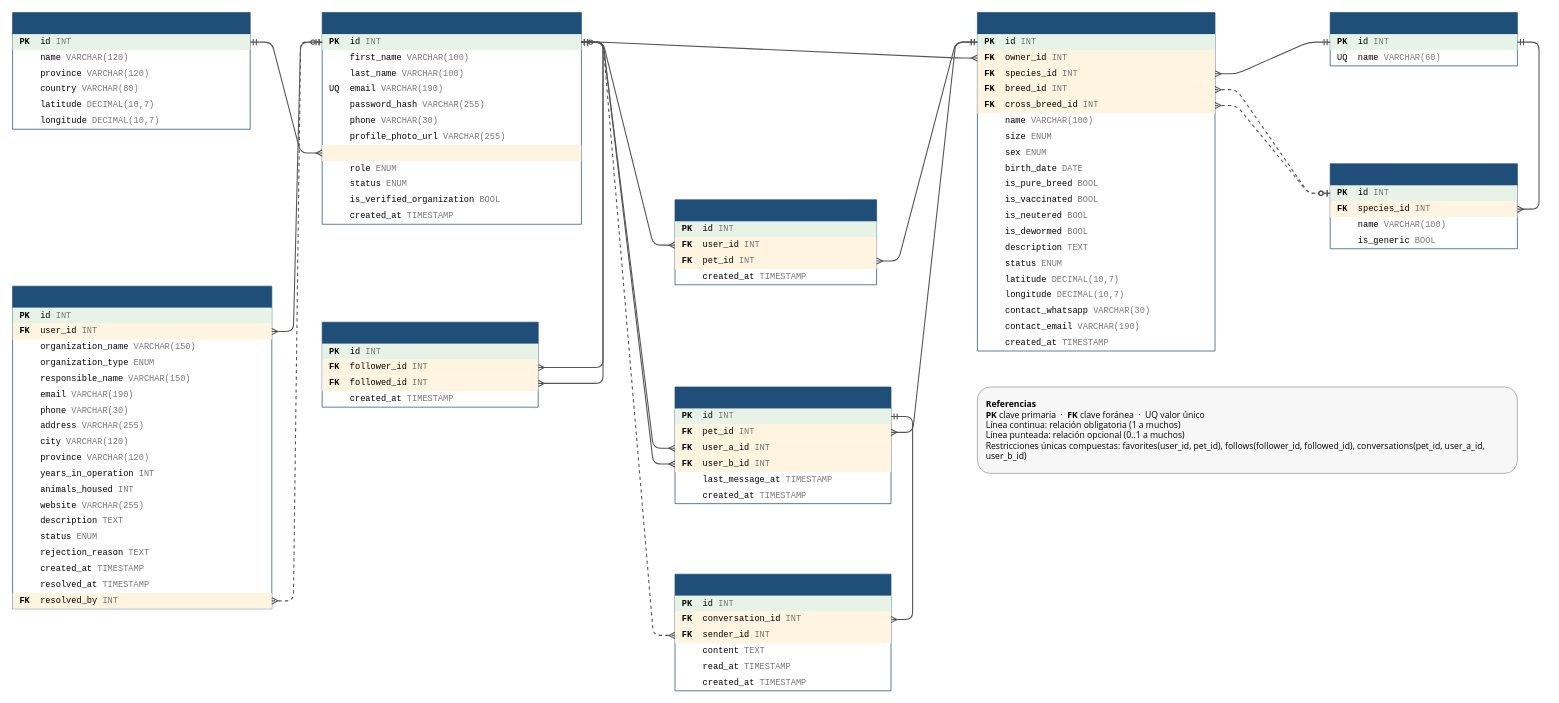
This 1559x703 diagram has some shape labels left out. The box of each missing label's shape, as (x1, y1, x2, y2) in pixels:
breeds: (1329, 163, 1517, 249)
cities: (12, 12, 250, 129)
conversations: (674, 386, 891, 504)
favorites: (674, 199, 877, 285)
FK city_id INT: (322, 145, 581, 161)
follows: (321, 321, 538, 407)
messages: (674, 573, 891, 691)
pets: (977, 12, 1215, 351)
species: (1329, 12, 1517, 66)
users: (321, 12, 581, 224)
verification_requests: (12, 285, 272, 609)
